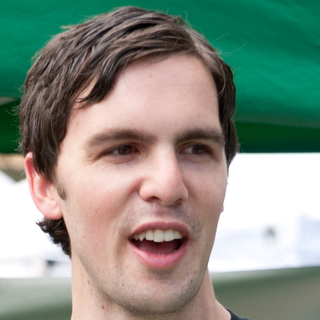eye: (172, 136, 221, 165), (94, 139, 145, 162)
